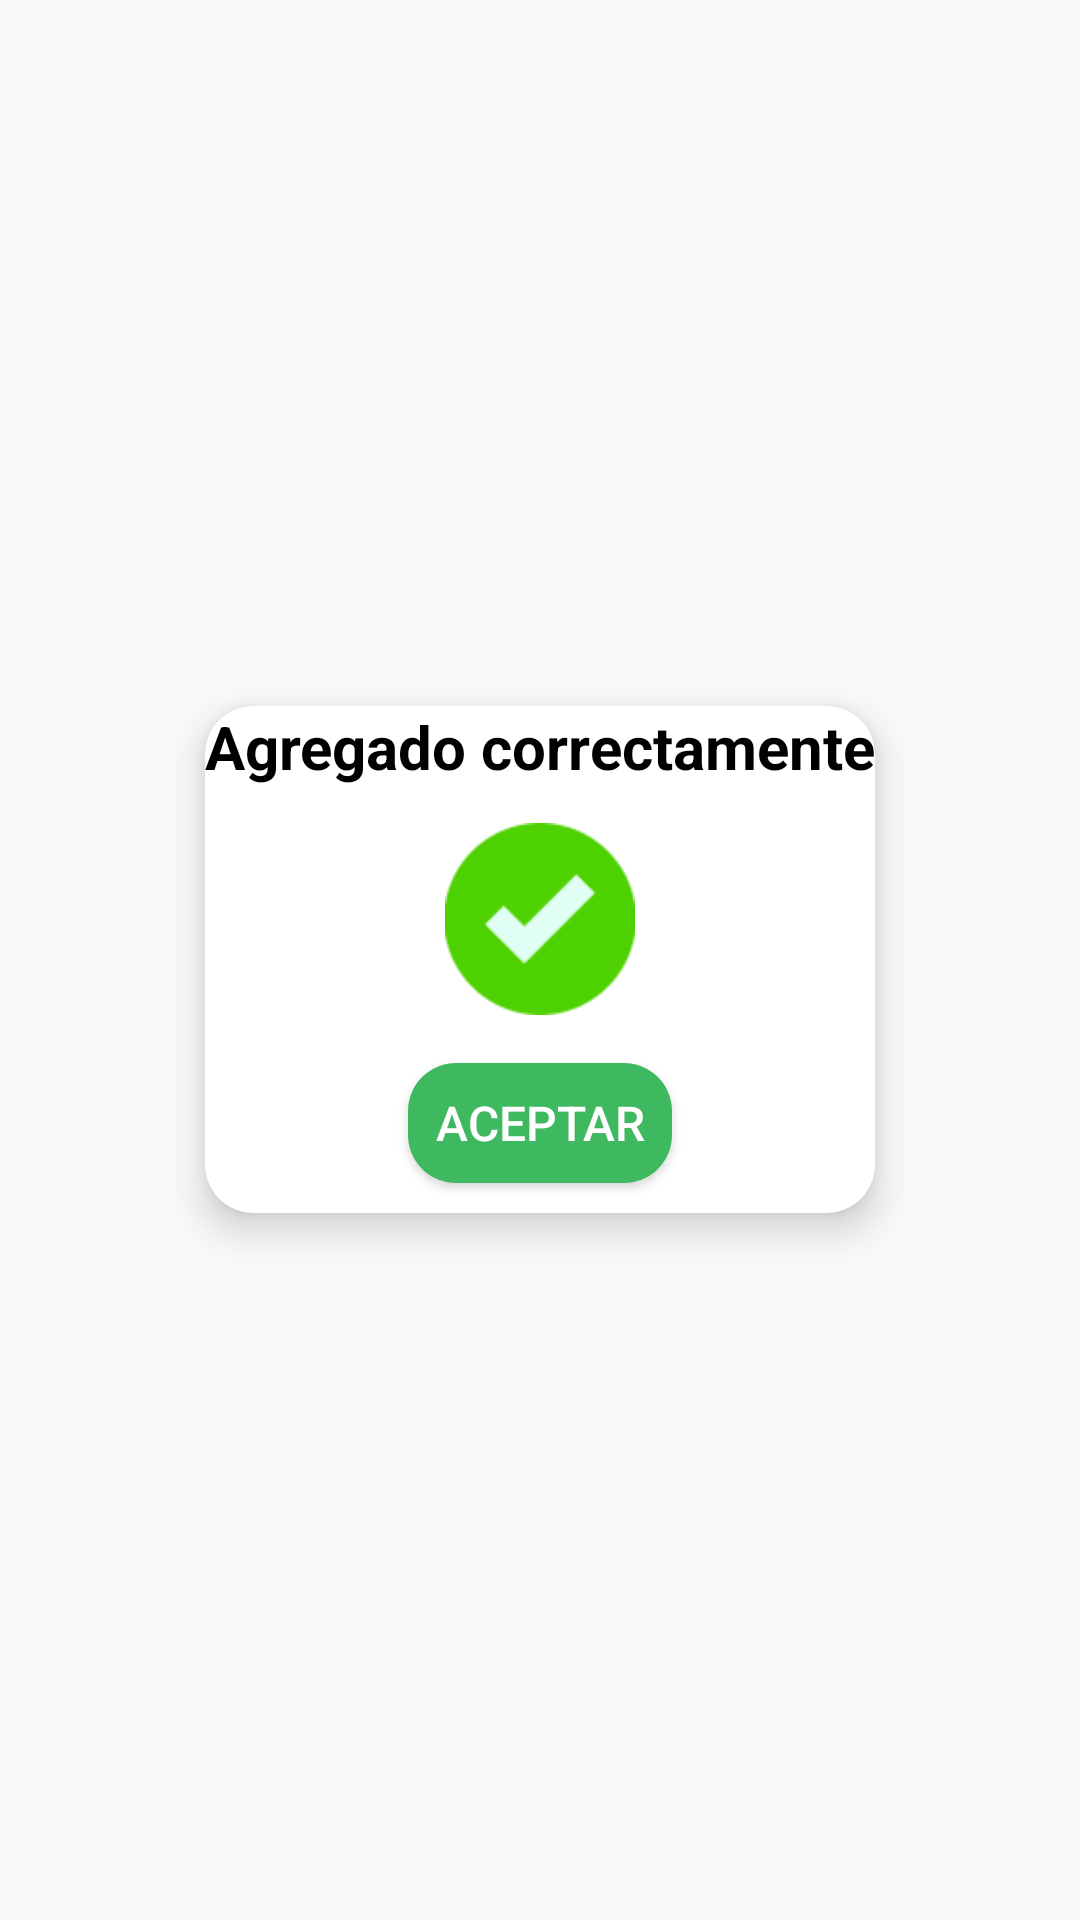

Icon bounding boxes for this 1080 x 1920 phone screenshot, format (x1, y1, x2, y2):
check: (445, 823, 635, 1015)
